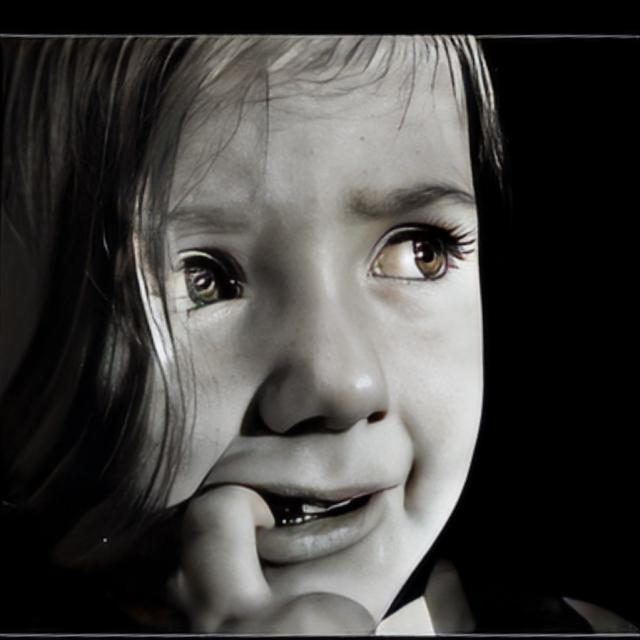fear: (88, 40, 484, 629)
